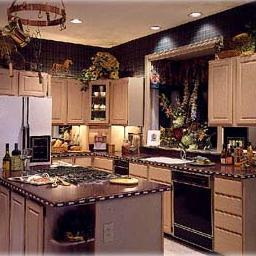Electrodomestico: (172, 166, 215, 251)
Lavaplatos: (141, 141, 194, 167)
